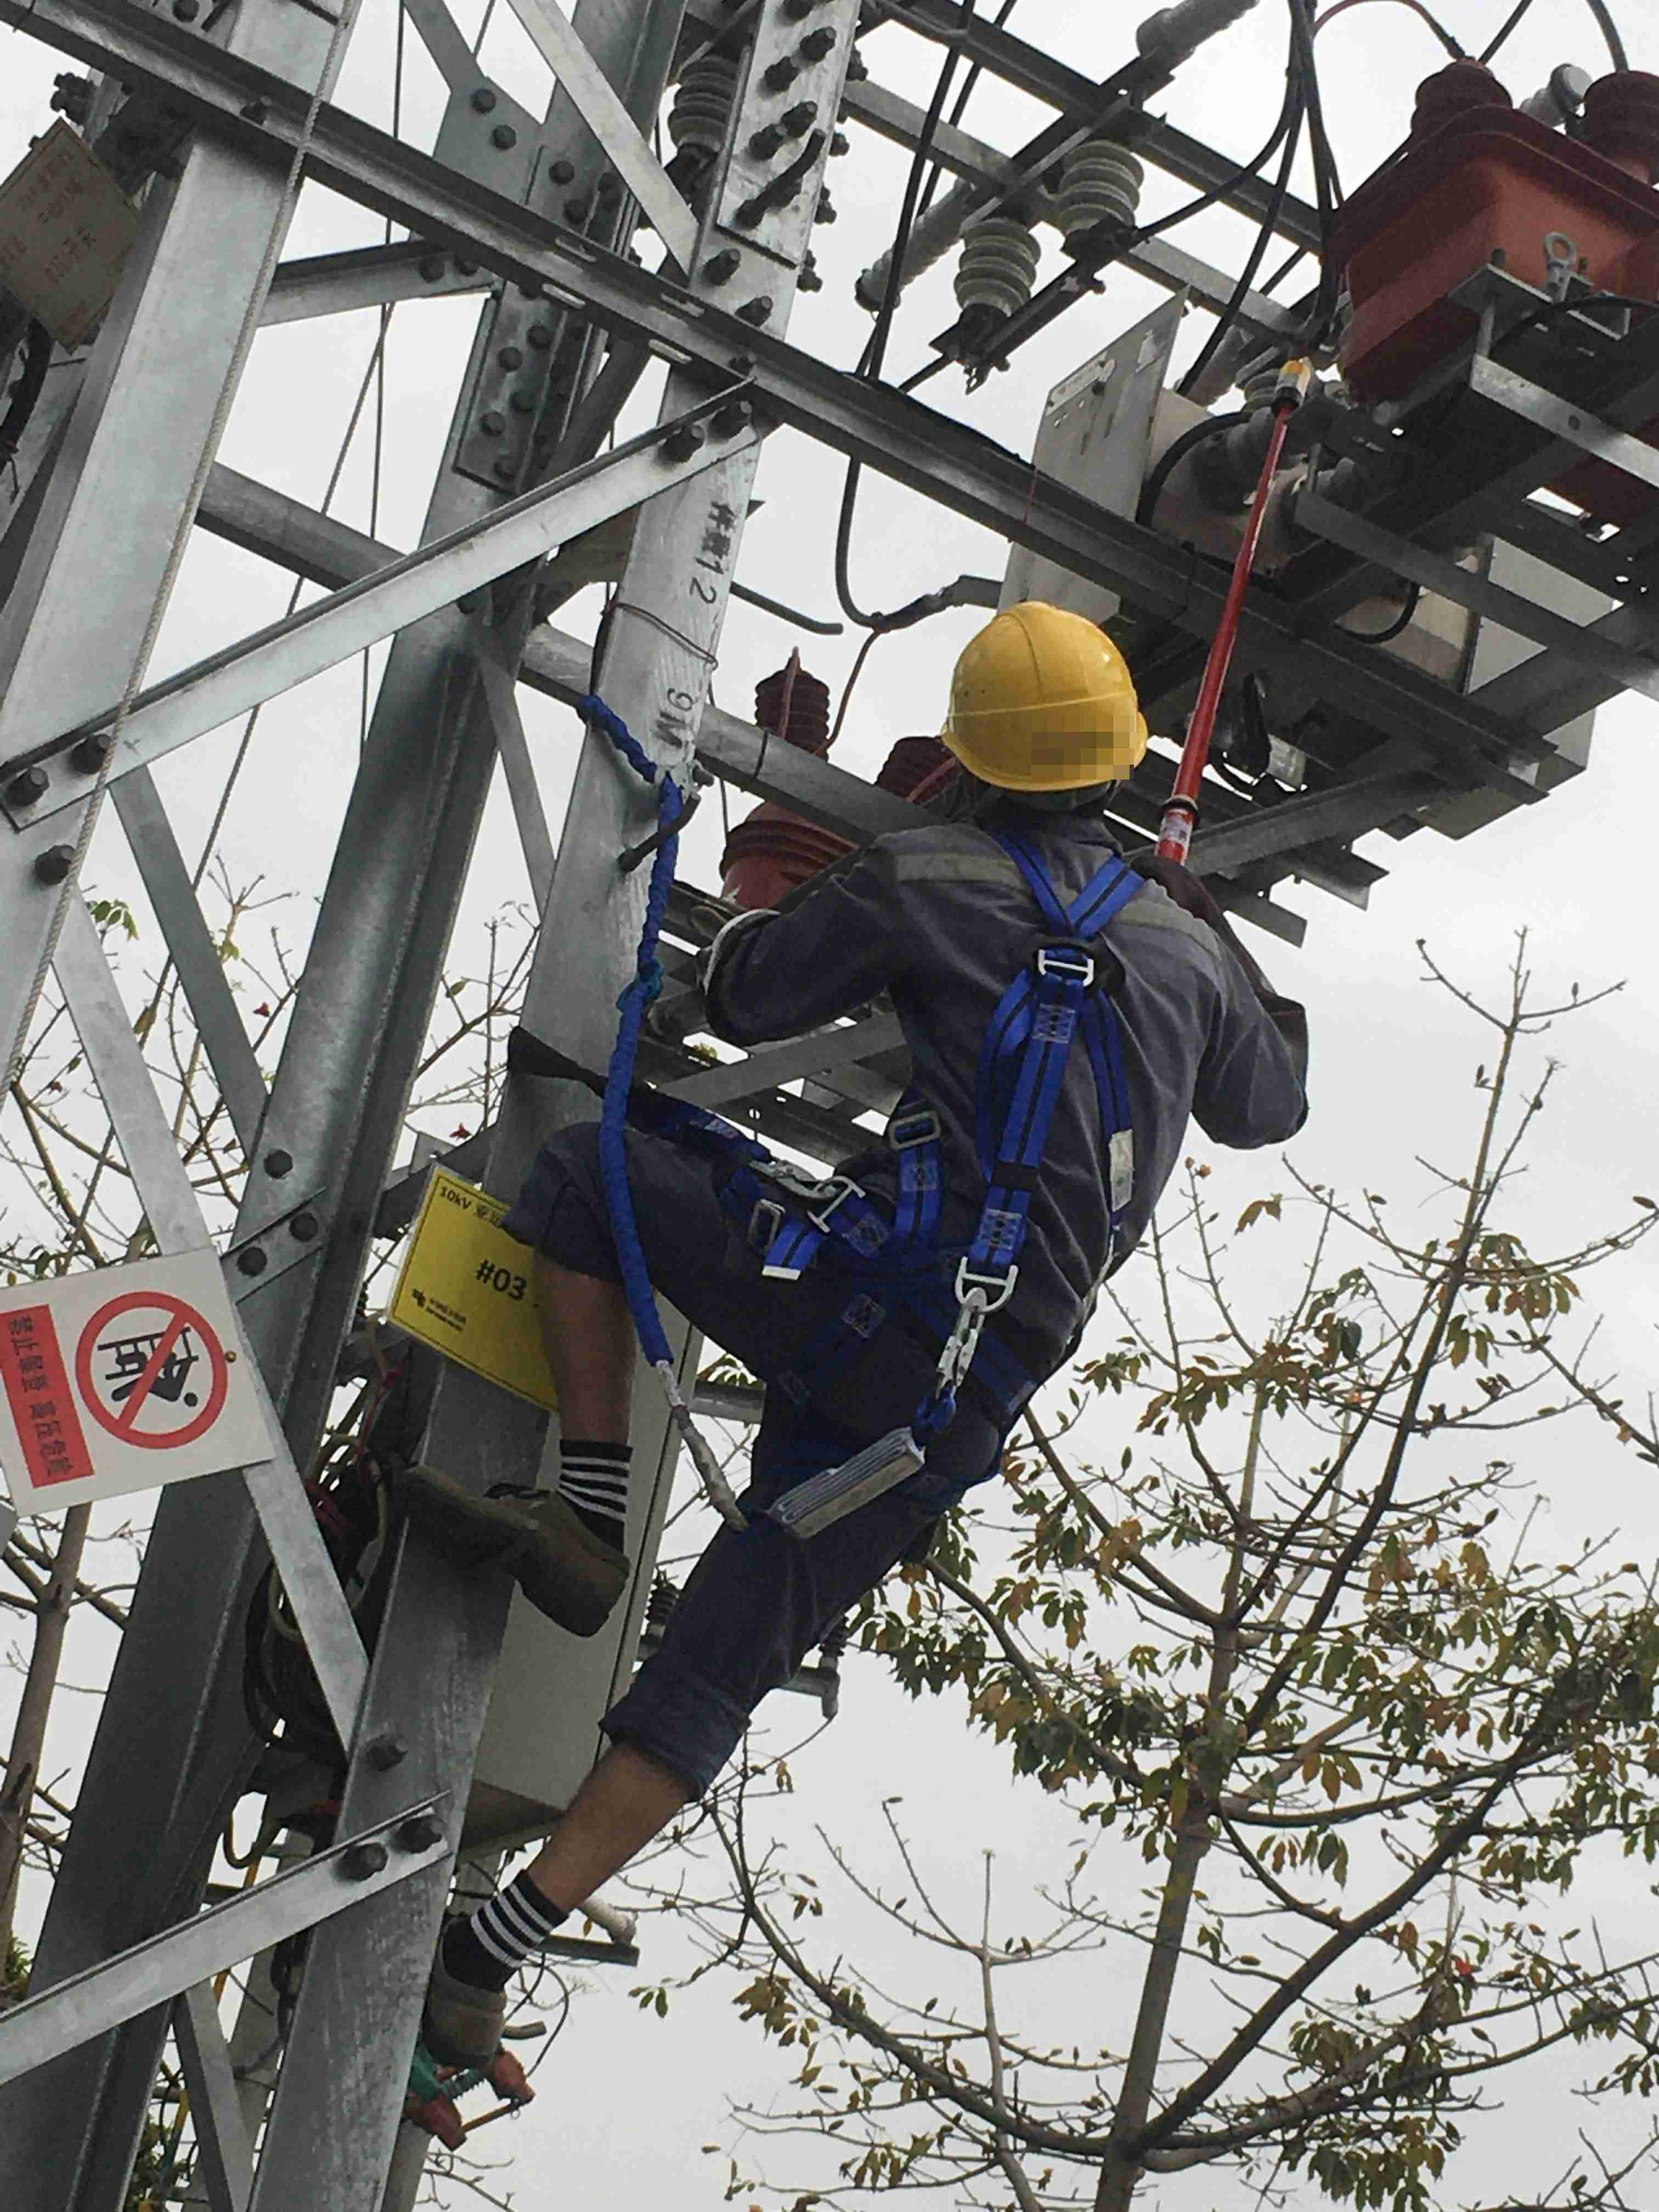downsuit: (507, 1122, 1049, 1811)
upsuit: (706, 817, 1316, 1439)
wrongbottom: (514, 1653, 758, 1926), (509, 1163, 650, 1447)
